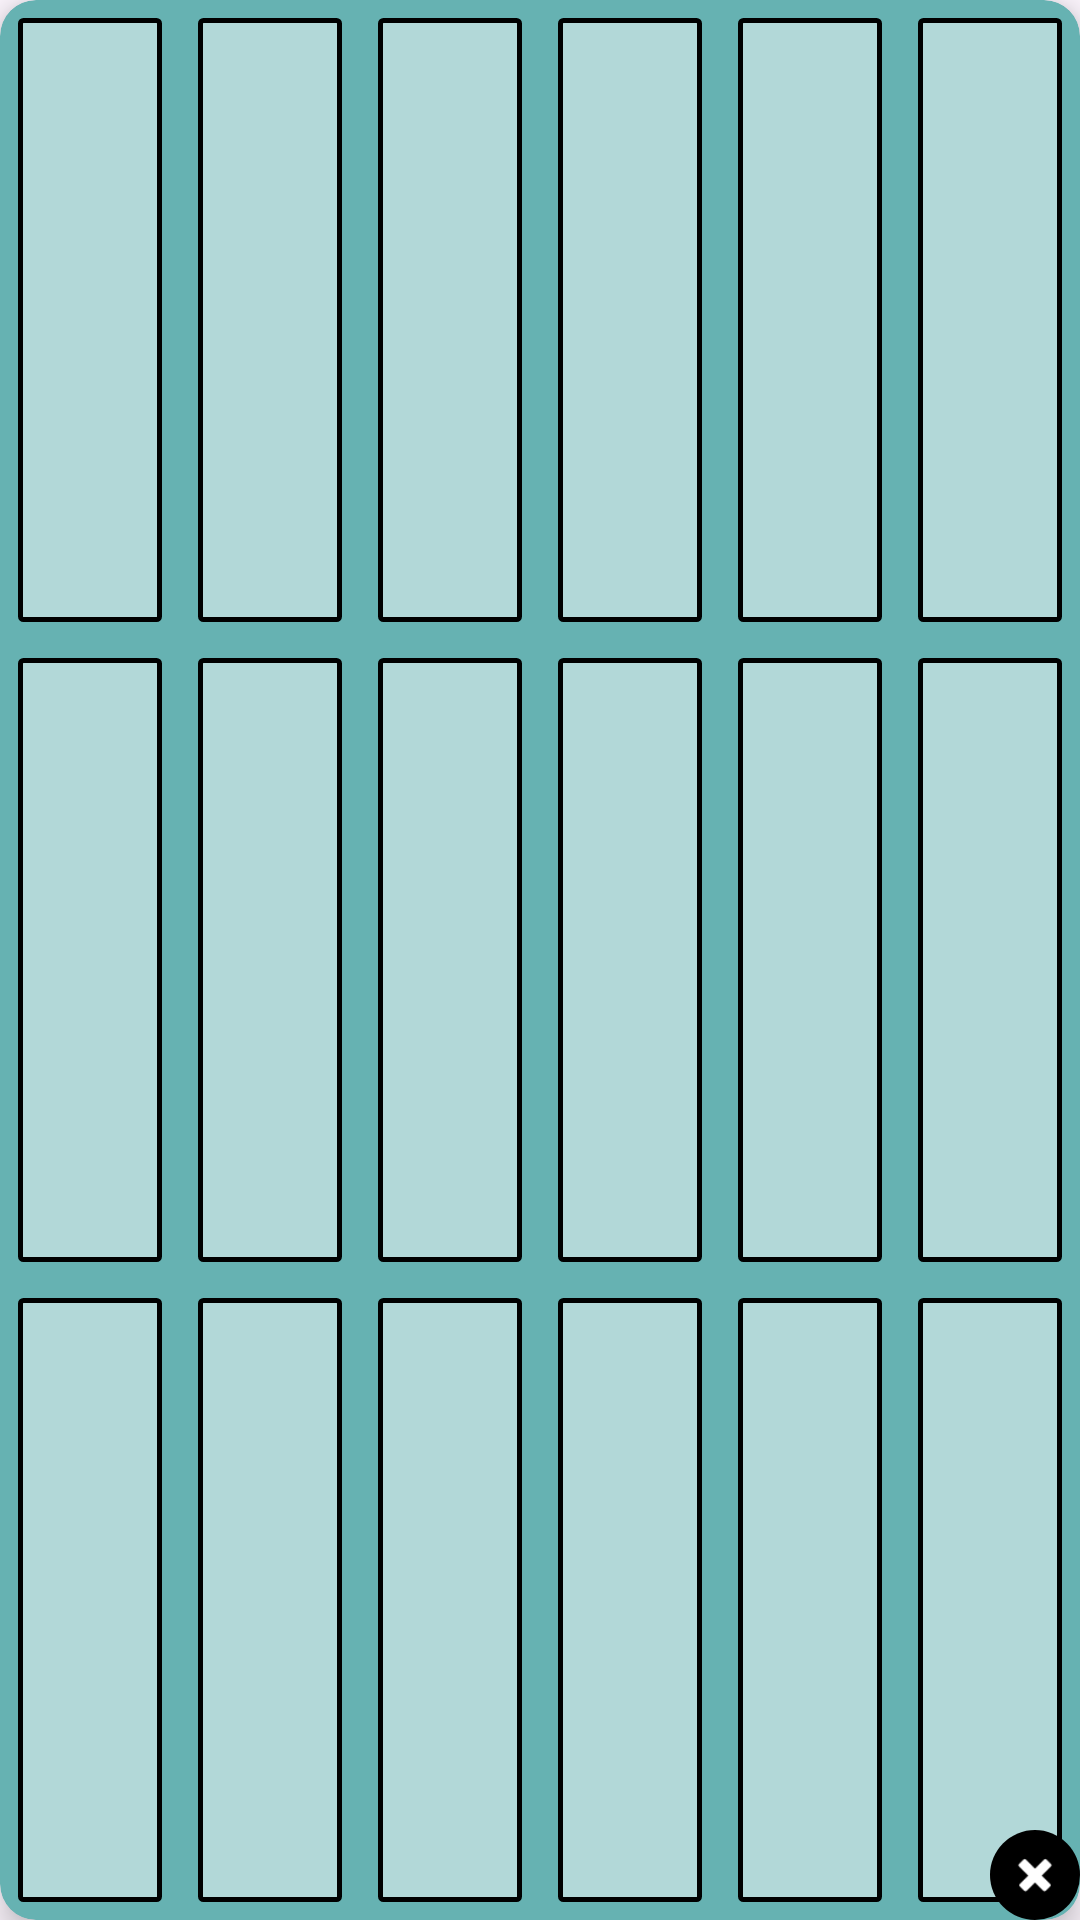

Icons on this 1080x1920 Android screen, each with the point to tap as [x,y]:
delete: [1035,1875]
